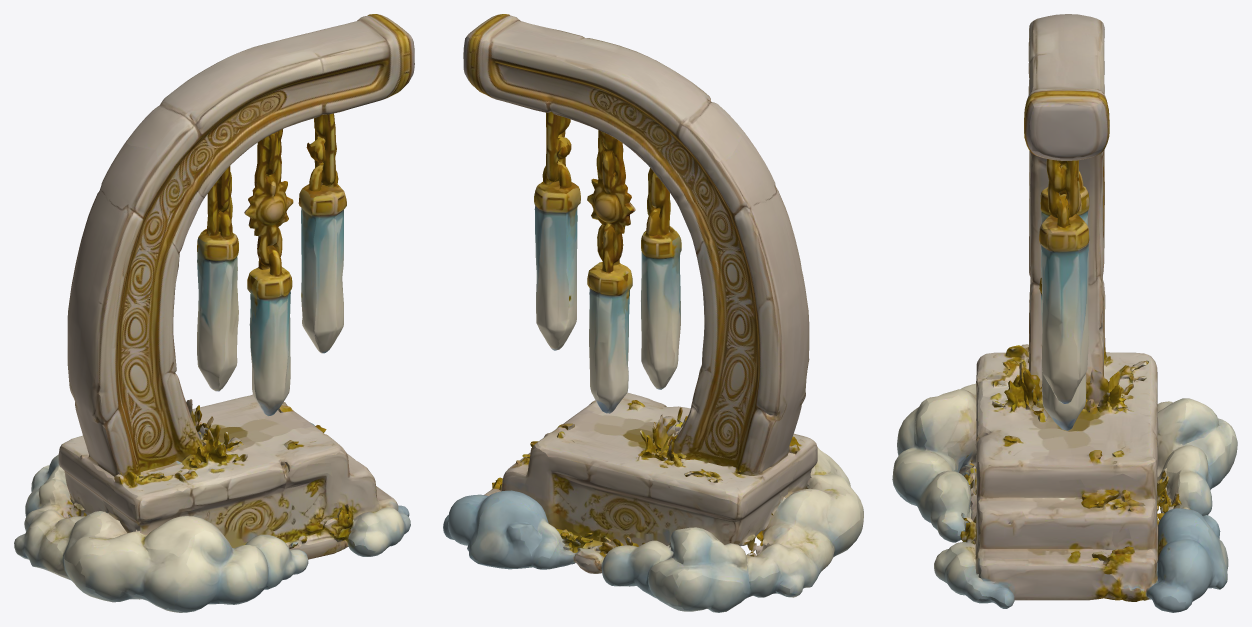
Rendered from sky_wind_chimes.glb.
3 views of the same model, side by side, from view 1: azimuth 30°, elevation 25°; view 2: azimuth 150°, elevation 25°; view 3: azimuth 270°, elevation 25° (orthographic). The views are drawn at different scales.
Visible parts, largest first — view 1: textured_mesh.obj; view 2: textured_mesh.obj; view 3: textured_mesh.obj.
Boxes of the visible parts, box(x1,y1,x2,y2) form: textured_mesh.obj: box(14, 14, 414, 612); textured_mesh.obj: box(443, 14, 863, 612); textured_mesh.obj: box(892, 14, 1237, 612).
Size of the model in its own units: 1.54 by 1.98 by 1.18.
1 material, 1 textured.
